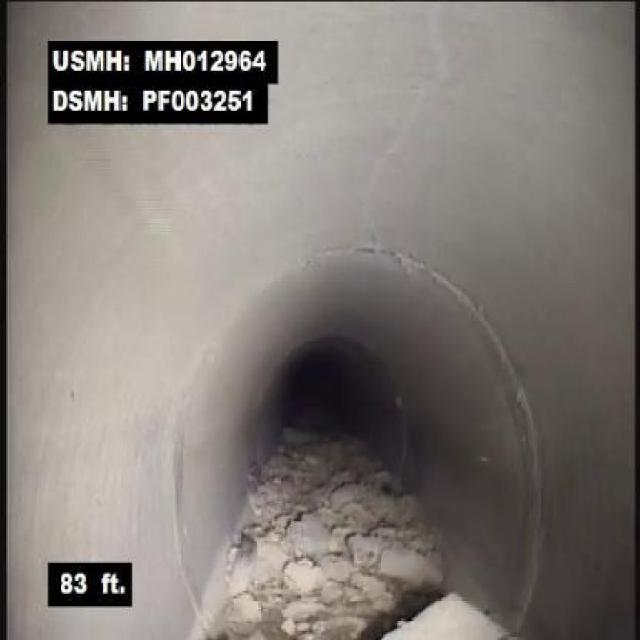Obstacle: (320, 432, 515, 638), (198, 420, 310, 638)
